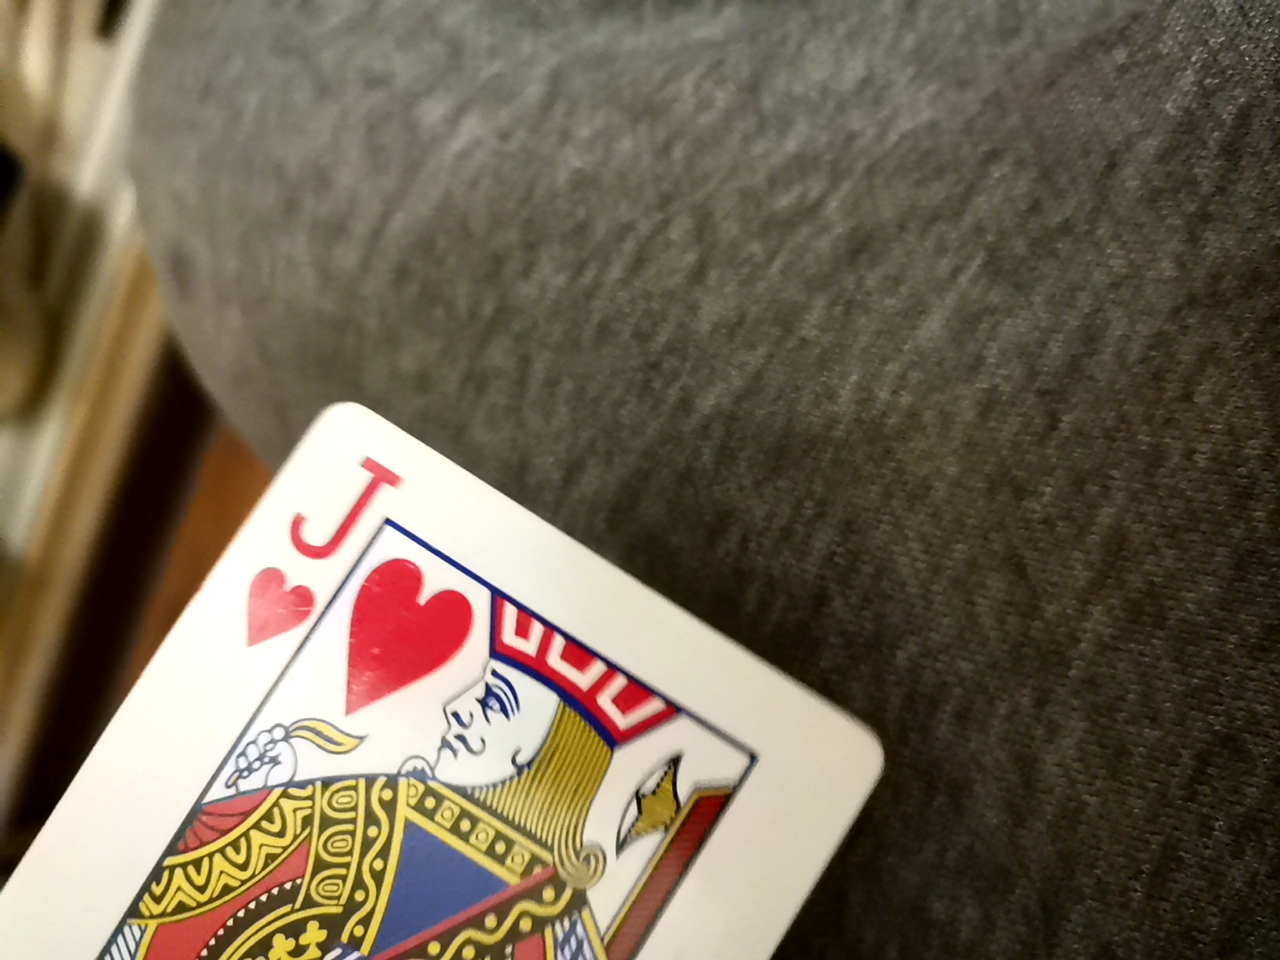hx j: (0, 384, 894, 958)
